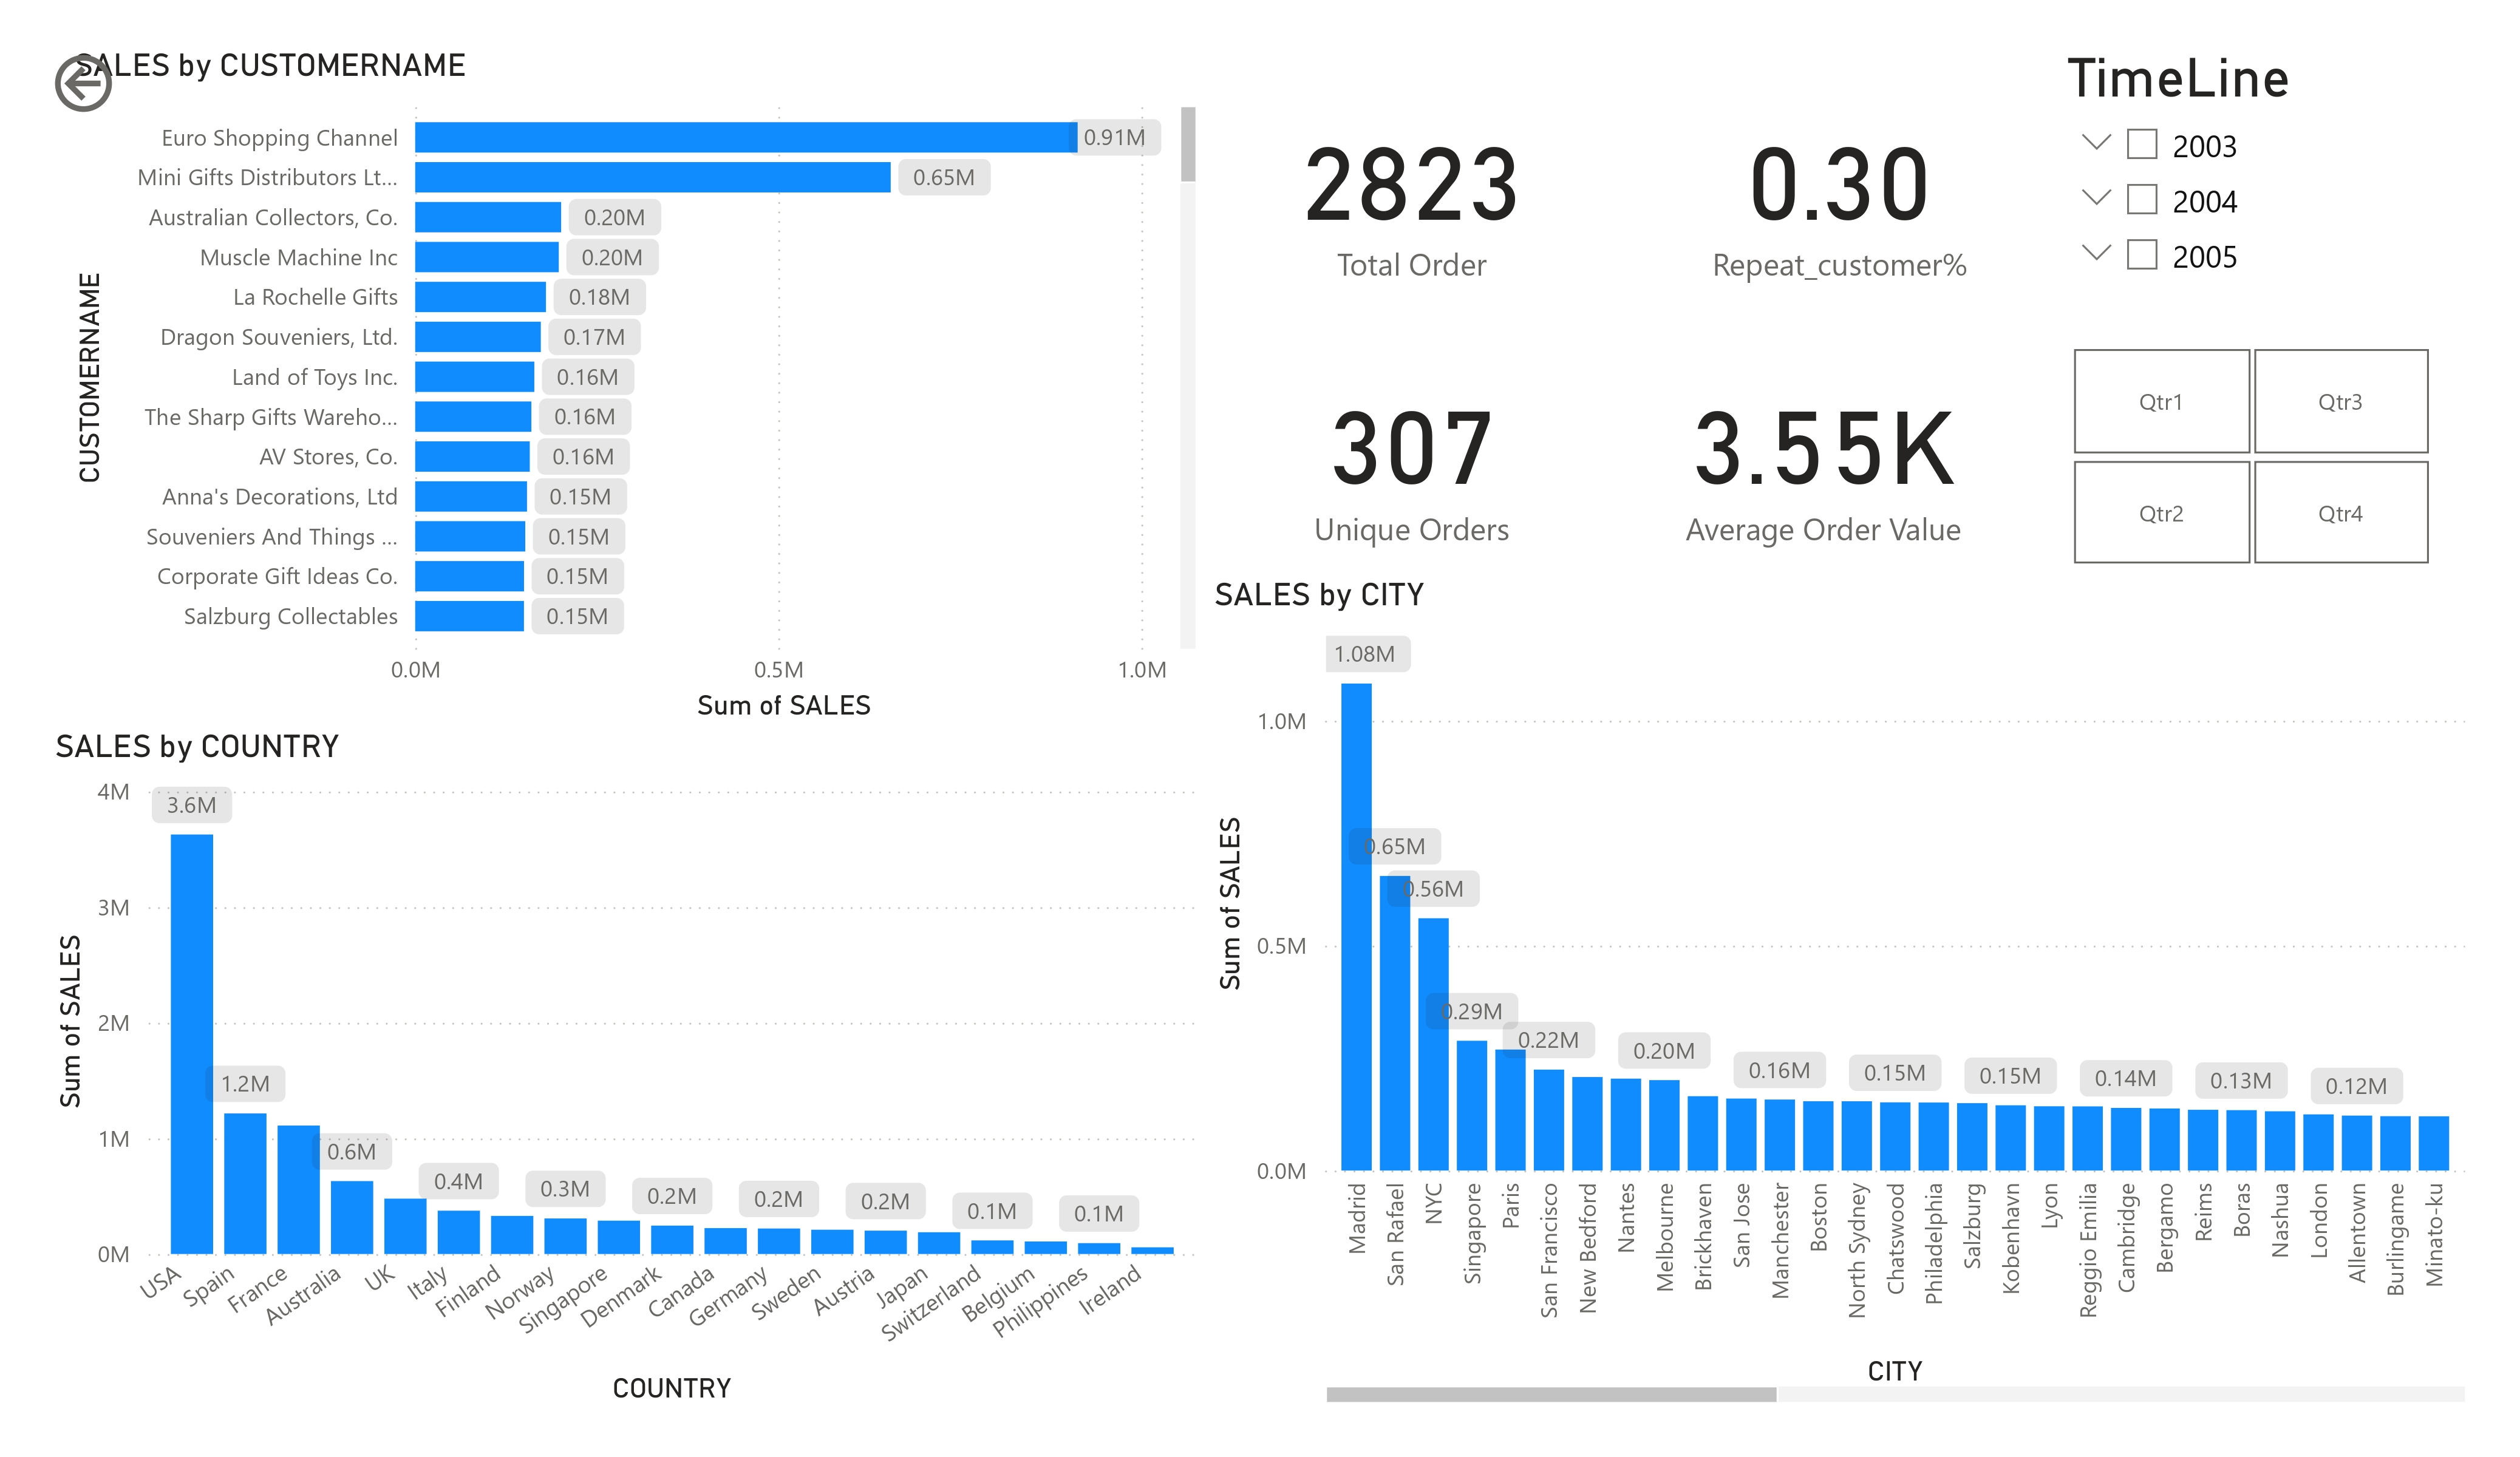

The dashboard page shown, as its layout file describes it:
{"tool":"powerbi","page":{"name":"Customer Analysis","canvas":[1280,720],"ordinal":1},"visuals":[{"type":"clusteredBarChart","title":"SALES by CUSTOMERNAME","fields":{"Category":["sales_data_sample.CUSTOMERNAME"],"Y":["Sum(sales_data_sample.SALES)"]},"box":[10.2,0,600.7,360.7],"z":0},{"type":"columnChart","title":"SALES by COUNTRY","fields":{"Category":["sales_data_sample.COUNTRY"],"Y":["Sum(sales_data_sample.SALES)"]},"box":[0,359.3,610.9,362.2],"z":1000},{"type":"clusteredColumnChart","title":"SALES by CITY","fields":{"Category":["sales_data_sample.CITY"],"Y":["Sum(sales_data_sample.SALES)"]},"box":[610.9,279.3,669.1,440.7],"z":2000},{"type":"card","fields":{"Values":["Measures (2).Total_Order"]},"box":[610.9,0,218.2,152.7],"z":3000},{"type":"card","fields":{"Values":["Measures (2).Repeat_customer%"]},"box":[830.5,0,229.8,152.7],"z":4000},{"type":"card","fields":{"Values":["Measures (2).Distinct_Order_count"]},"box":[610.9,152.7,218.2,126.5],"z":5000},{"type":"card","fields":{"Values":["Measures (2).Average_Order_Value"]},"box":[830.5,152.7,212.4,126.5],"z":6000},{"type":"slicer","title":"TimeLine","fields":{"Values":["sales_data_sample.YEAR_ID","sales_data_sample.Month_Name"]},"box":[1060.2,0,219.8,130.8],"z":7000},{"type":"actionButton","box":[0,0,100,40],"z":8000},{"type":"slicer","fields":{"Values":["sales_data_sample.Quarter"]},"box":[1043.5,153,236.5,126.6],"z":9000}]}

Visuals, with their boxes on the page's 1280x720 design canvas (x1, y1, x2, y2). These are canvas units, not pixel positions in the 2520x1457 screenshot, which may show the page scaled, cropped or inside an application window:
"SALES by CUSTOMERNAME" clusteredBarChart: 10,0,611,361
"SALES by COUNTRY" columnChart: 0,359,611,722
"SALES by CITY" clusteredColumnChart: 611,279,1280,720
card - Measures (2).Total_Order: 611,0,829,153
card - Measures (2).Repeat_customer%: 830,0,1060,153
card - Measures (2).Distinct_Order_count: 611,153,829,279
card - Measures (2).Average_Order_Value: 830,153,1043,279
"TimeLine" slicer: 1060,0,1280,131
actionButton: 0,0,100,40
slicer - sales_data_sample.Quarter: 1044,153,1280,280
